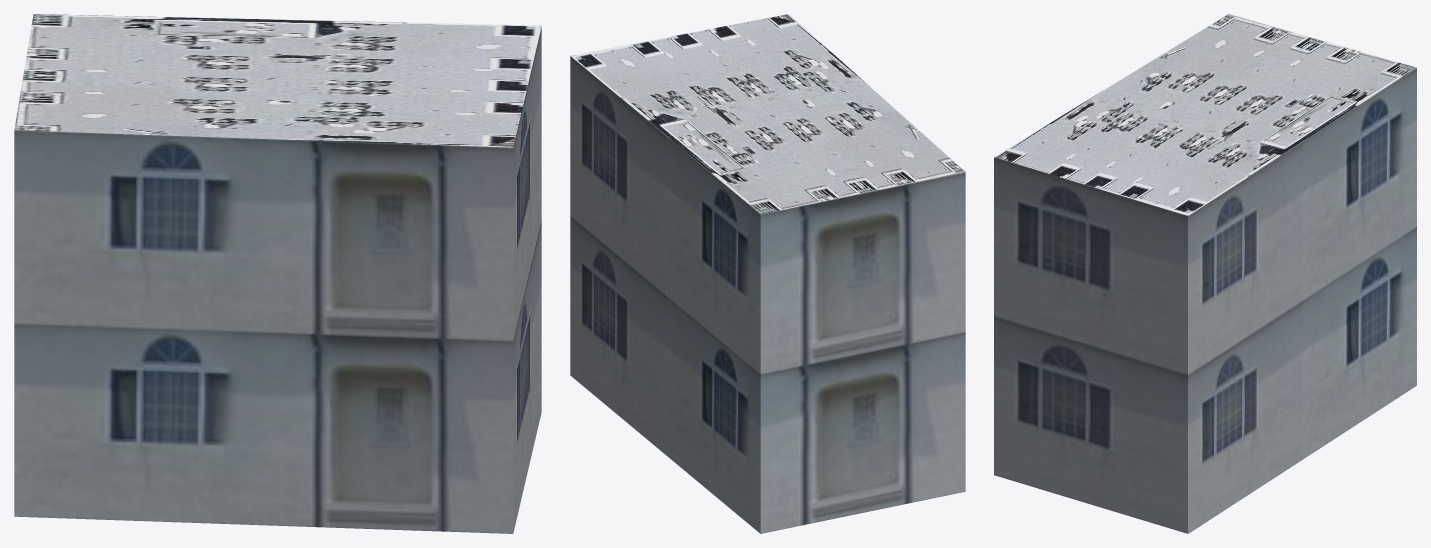
File: ResTex__3415.fbx
3 views of the same model, side by side, from view 1: azimuth 30°, elevation 25°; view 2: azimuth 150°, elevation 25°; view 3: azimuth 270°, elevation 25° (orthographic). The views are drawn at different scales.
Visible parts, largest first — view 1: CityEngineMaterial_17_m, CityEngineMaterial_m; view 2: CityEngineMaterial_17_m, CityEngineMaterial_m; view 3: CityEngineMaterial_17_m, CityEngineMaterial_m.
Boxes of the visible parts, left/top/right/bottom form: CityEngineMaterial_17_m: left=14, top=27, right=541, bottom=533; CityEngineMaterial_m: left=14, top=14, right=541, bottom=147; CityEngineMaterial_17_m: left=570, top=56, right=965, bottom=533; CityEngineMaterial_m: left=570, top=14, right=965, bottom=214; CityEngineMaterial_17_m: left=994, top=68, right=1416, bottom=533; CityEngineMaterial_m: left=994, top=14, right=1416, bottom=215.
Size of the model in its own units: 8.18 by 6 by 7.23.
Materials: 2 (2 with a texture image).
